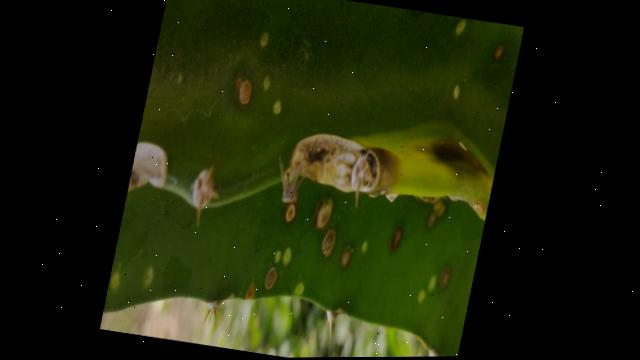stemcanker: (165, 24, 451, 220), (313, 197, 336, 233), (232, 76, 256, 110), (317, 228, 340, 260), (385, 225, 406, 255), (435, 261, 456, 291), (279, 201, 301, 227), (263, 262, 283, 290), (424, 203, 442, 230), (338, 246, 356, 271), (240, 281, 259, 304), (490, 41, 508, 65)
